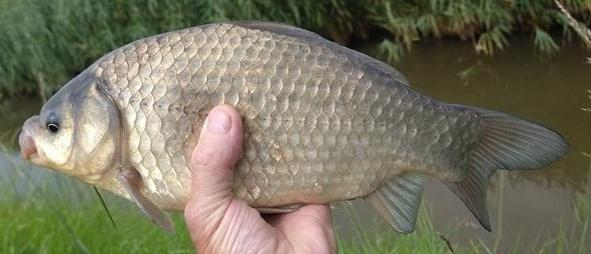Grass Carp: (13, 17, 572, 236)
